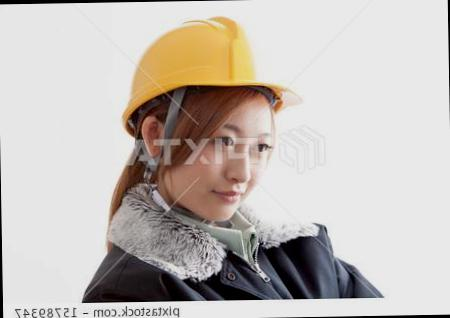helmet: (102, 16, 310, 121)
no_vest: (76, 188, 354, 302)
person: (72, 11, 346, 307)
